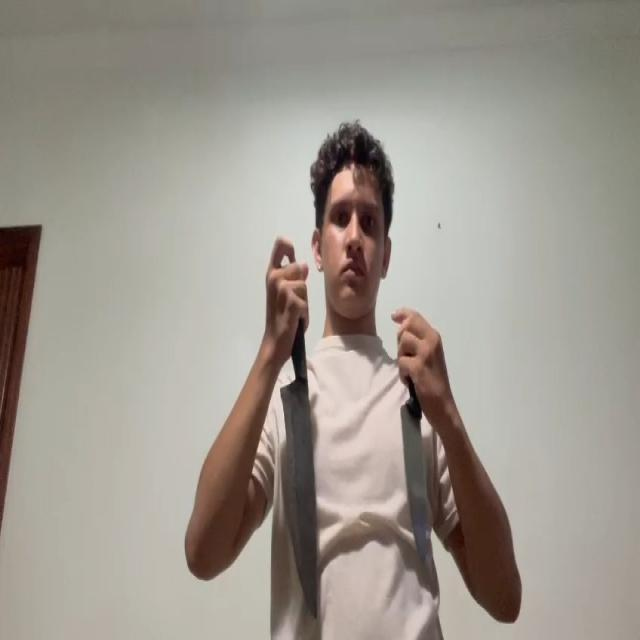knife: (277, 376, 321, 618), (400, 400, 428, 562)
